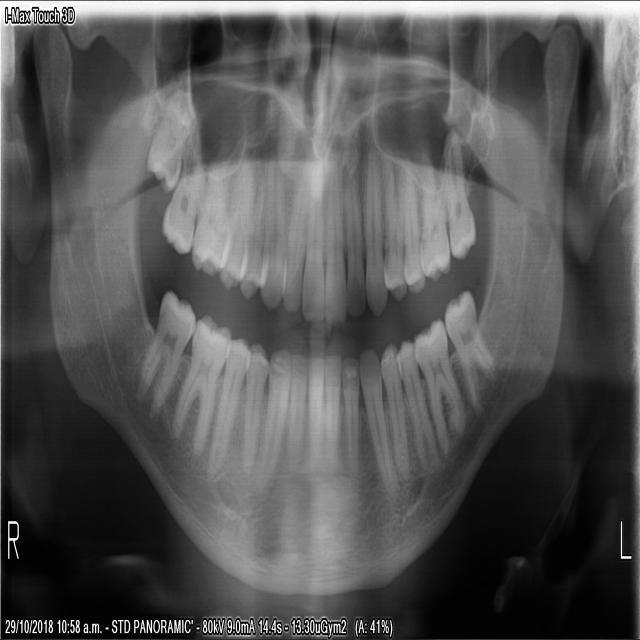LCD: (358, 343, 396, 487)
LCU: (364, 147, 389, 321)
LID: (341, 354, 362, 472), (326, 346, 343, 469)
LIU: (343, 143, 365, 321), (324, 155, 346, 330)
LMD: (414, 308, 466, 455), (441, 279, 497, 413)
LMU: (414, 143, 453, 291), (437, 133, 478, 266)
LPMD: (398, 330, 441, 474), (378, 338, 413, 479)
LPMU: (396, 154, 425, 299), (382, 157, 407, 307)
RCD: (255, 351, 291, 496)
RCU: (258, 140, 286, 310)
RID: (284, 352, 307, 476), (305, 352, 328, 472)
RIU: (280, 152, 306, 319), (300, 163, 326, 322)
RMD: (172, 304, 235, 460), (135, 276, 200, 422)
RMU: (187, 151, 232, 283), (140, 91, 195, 199), (155, 138, 203, 260)
RPMD: (204, 335, 251, 469), (237, 340, 271, 496)
RPMU: (215, 149, 253, 290), (236, 146, 264, 304)
